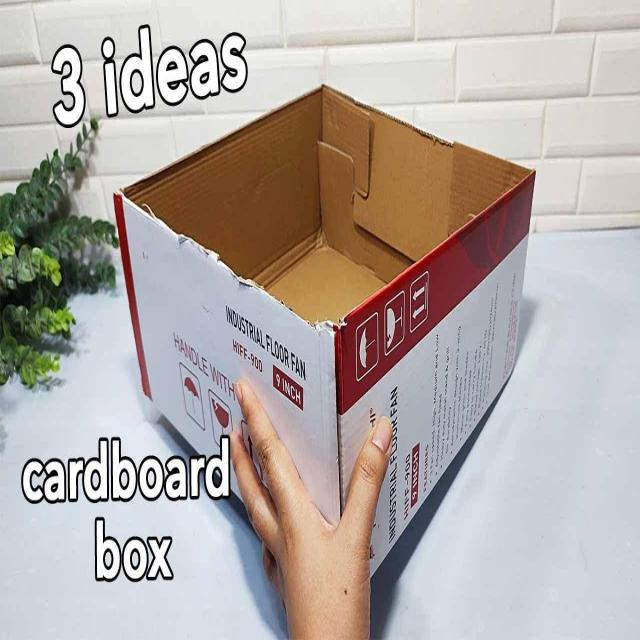Garbage: (114, 82, 539, 588)
